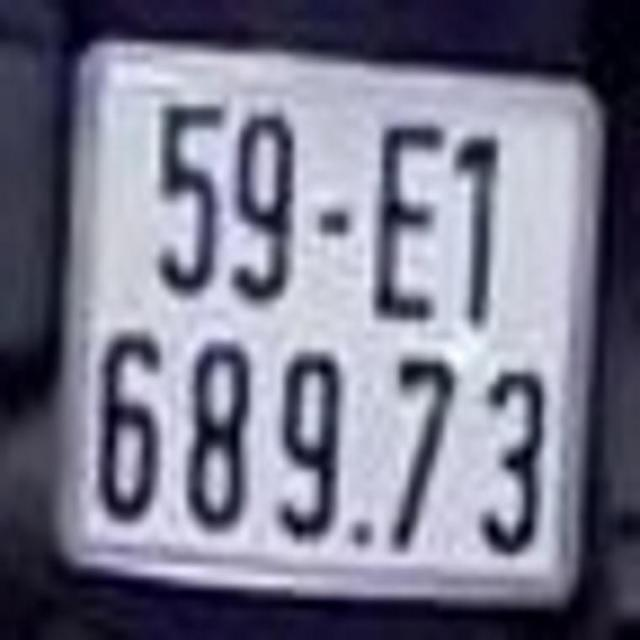1: (454, 134, 502, 323)
3: (490, 368, 539, 551)
5: (156, 102, 218, 292)
6: (98, 330, 162, 520)
7: (394, 358, 446, 548)
8: (190, 341, 245, 524)
9: (281, 346, 339, 537), (235, 114, 293, 301)
E: (382, 128, 437, 321)
